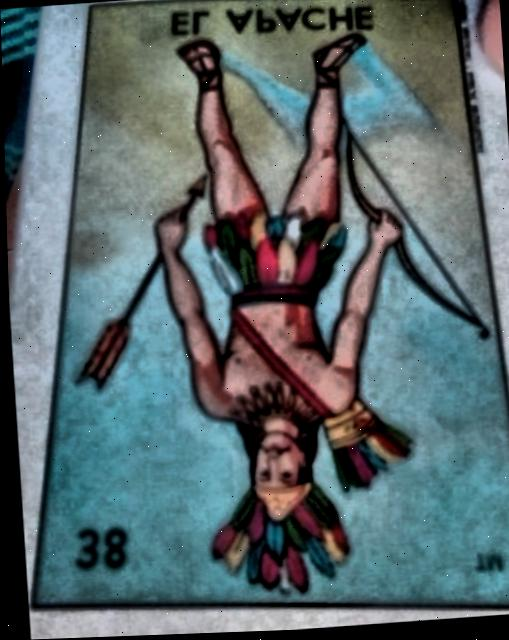El Apache: (24, 0, 509, 611)
